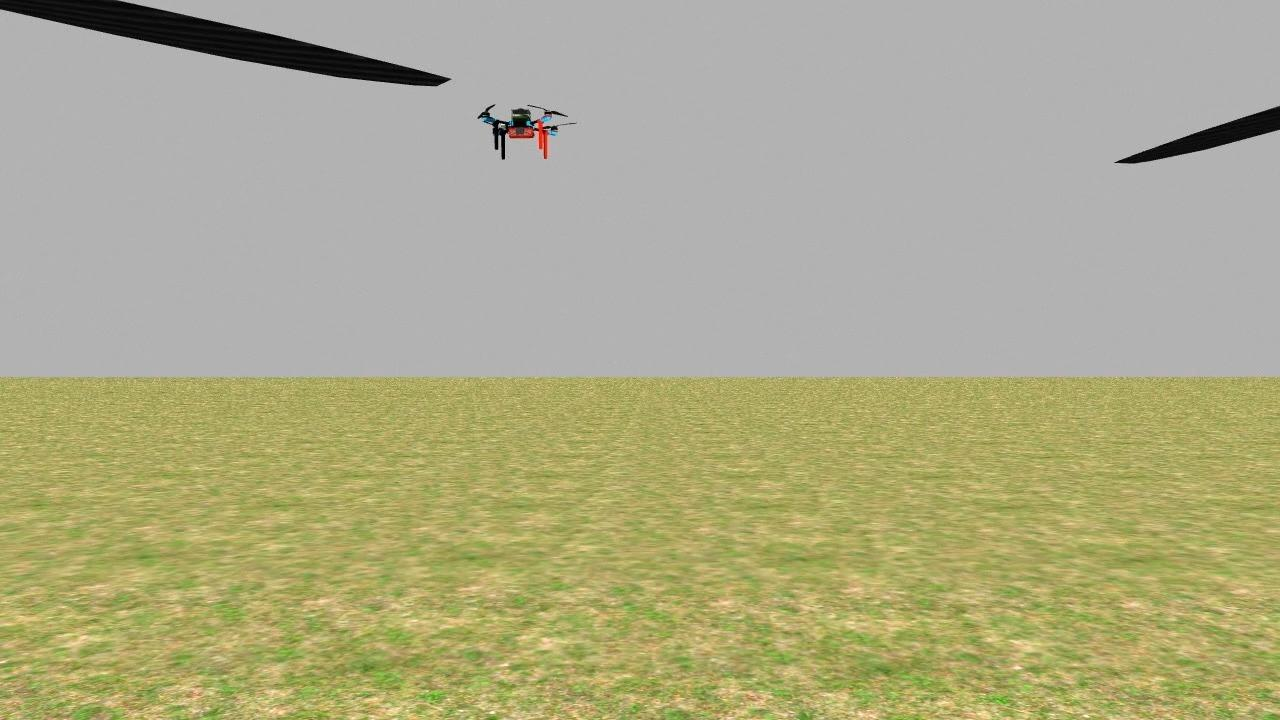UAV: (445, 81, 591, 172)
